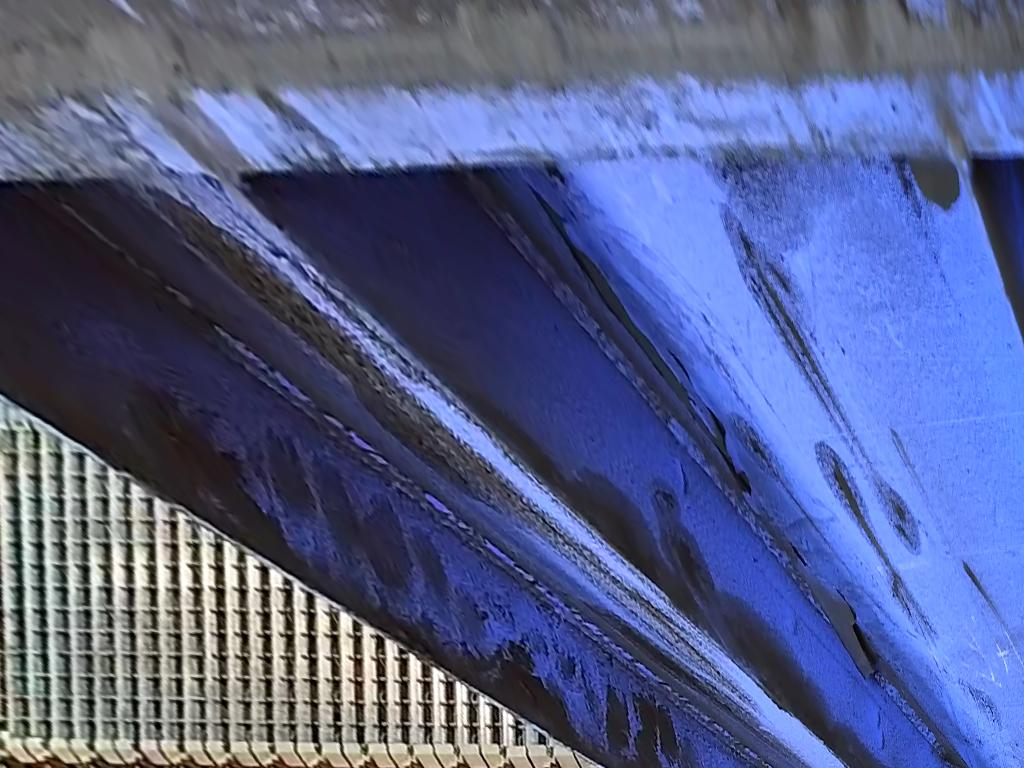cae: (1, 1, 1024, 767)
